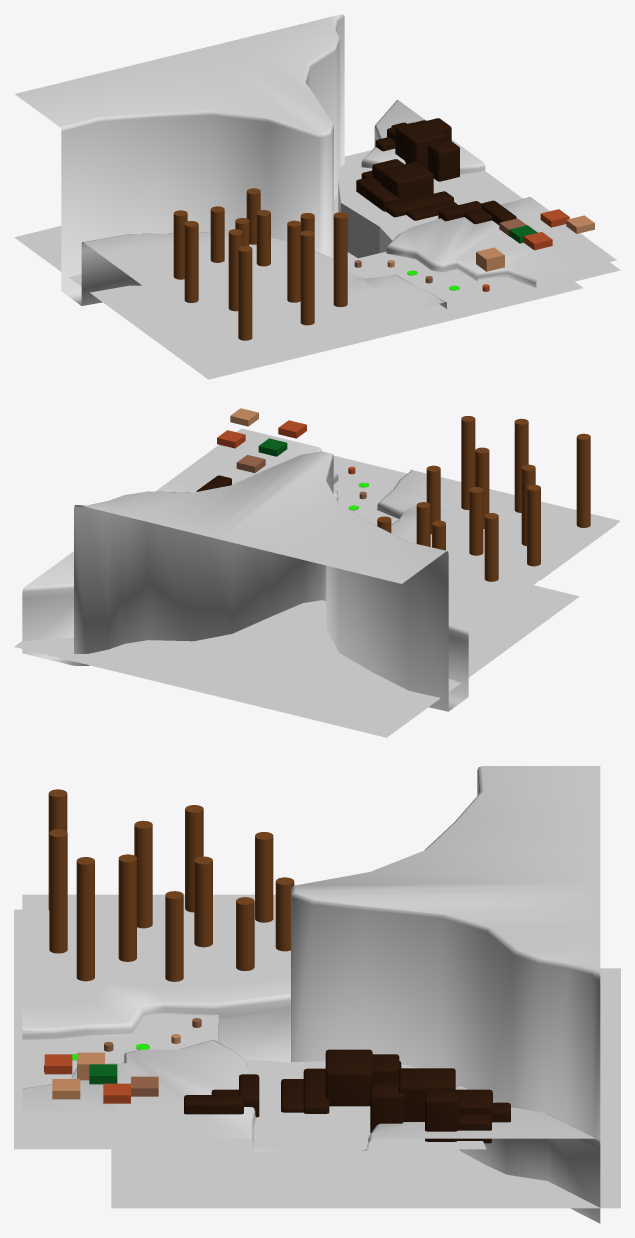
Rendered from Tutorial_basic_smooth_scaled.FBX.
3 views of the same model, one above another, from view 1: azimuth 30°, elevation 25°; view 2: azimuth 150°, elevation 25°; view 3: azimuth 270°, elevation 25° (orthographic). The views are drawn at different scales.
Visible parts, largest first — view 1: Ground, Water, Tutorial, Island_1, Hill_1, Hill_2; view 2: Ground, Water, Tutorial; view 3: Ground, Water, Tutorial, Hill_1, Island_1, Hill_2.
Part boxes in pixels (x1,y1,x2,y2): Ground: [15, 14, 616, 353]; Water: [14, 150, 620, 379]; Tutorial: [173, 188, 594, 340]; Island_1: [356, 159, 458, 220]; Hill_1: [375, 118, 459, 181]; Hill_2: [438, 200, 516, 225]; Ground: [22, 428, 620, 711]; Water: [14, 455, 616, 737]; Tutorial: [217, 408, 590, 581]; Ground: [22, 766, 600, 1223]; Water: [14, 909, 620, 1208]; Tutorial: [44, 789, 294, 1103]; Hill_1: [370, 1068, 510, 1143]; Island_1: [281, 1049, 401, 1113]; Hill_2: [184, 1074, 259, 1117].
Bounding box in the file's own units: 4906 × 1997 × 5146.
